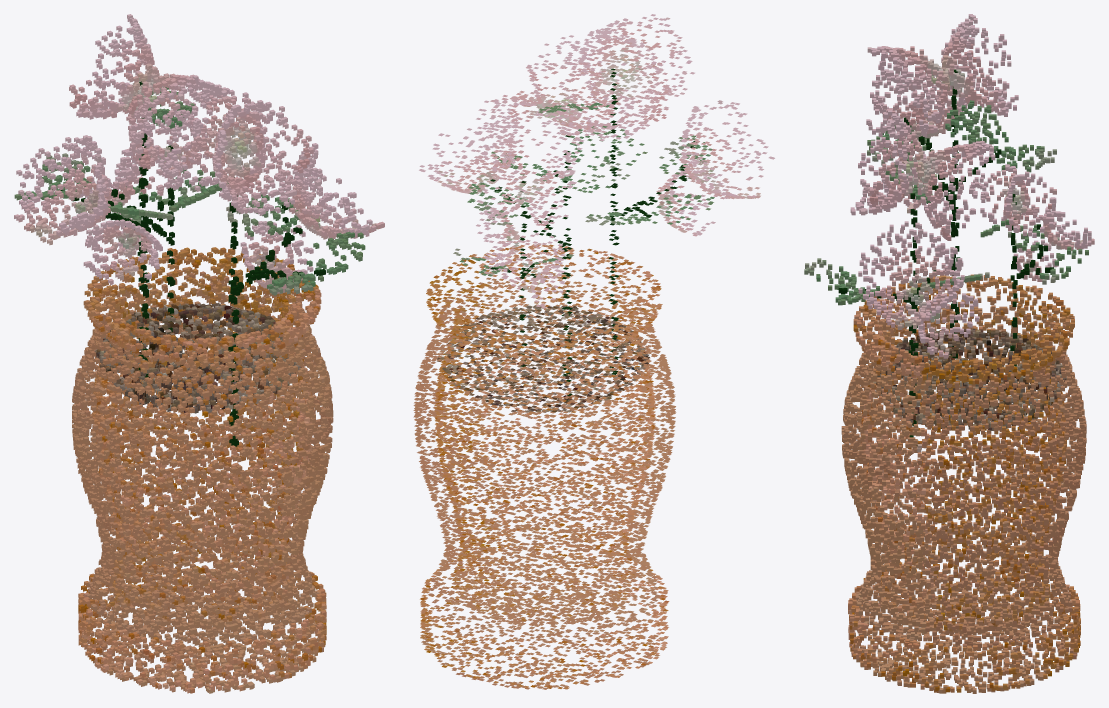
File: input.glb
3 views of the same model, side by side, from view 1: azimuth 30°, elevation 25°; view 2: azimuth 150°, elevation 25°; view 3: azimuth 270°, elevation 25° (orthographic). The views are drawn at different scales.
Visible parts, largest first — view 1: world; view 2: world; view 3: world.
Part boxes in pixels (box(x1,y1,x2,y2)): world: box(14, 14, 384, 693); world: box(413, 14, 774, 689); world: box(804, 14, 1094, 693).
Size of the model in its own units: 0.7194 by 1.27 by 0.5653.
